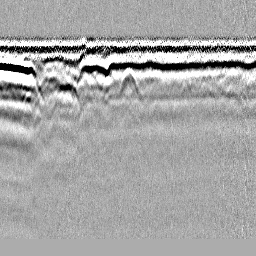cavity: (118, 67, 141, 96)
